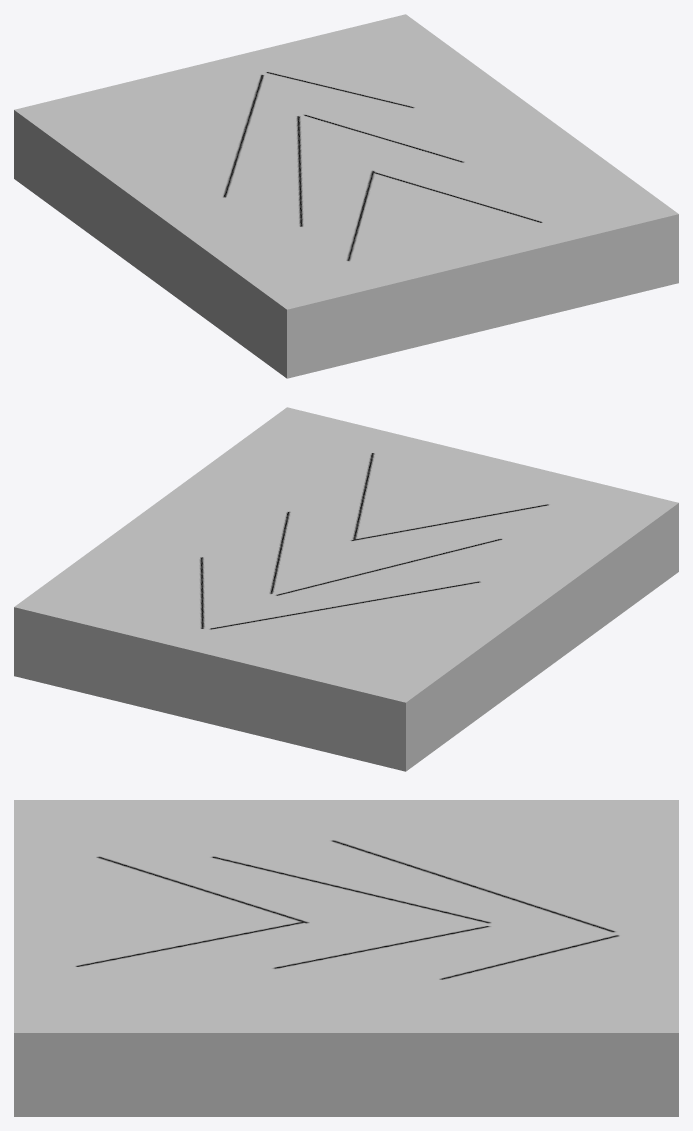
File: belt.glb
The picture shows the model from 3 angles, top to bottom: view 1: azimuth 30°, elevation 25°; view 2: azimuth 150°, elevation 25°; view 3: azimuth 270°, elevation 25°; orthographic projection. The views are drawn at different scales.
Visible parts, largest first — view 1: Cube; view 2: Cube; view 3: Cube.
Part boxes in pixels (left/top/right/bottom): Cube: left=14, top=14, right=678, bottom=378; Cube: left=14, top=407, right=678, bottom=771; Cube: left=14, top=800, right=678, bottom=1116.
Bounding box in the file's own units: 1.66 × 0.2788 × 2.
1 material, 1 textured.
